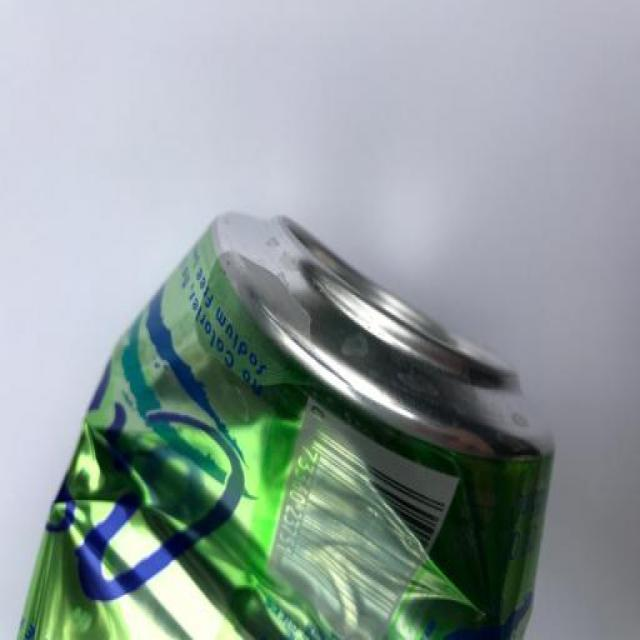metel: (4, 186, 570, 640)
